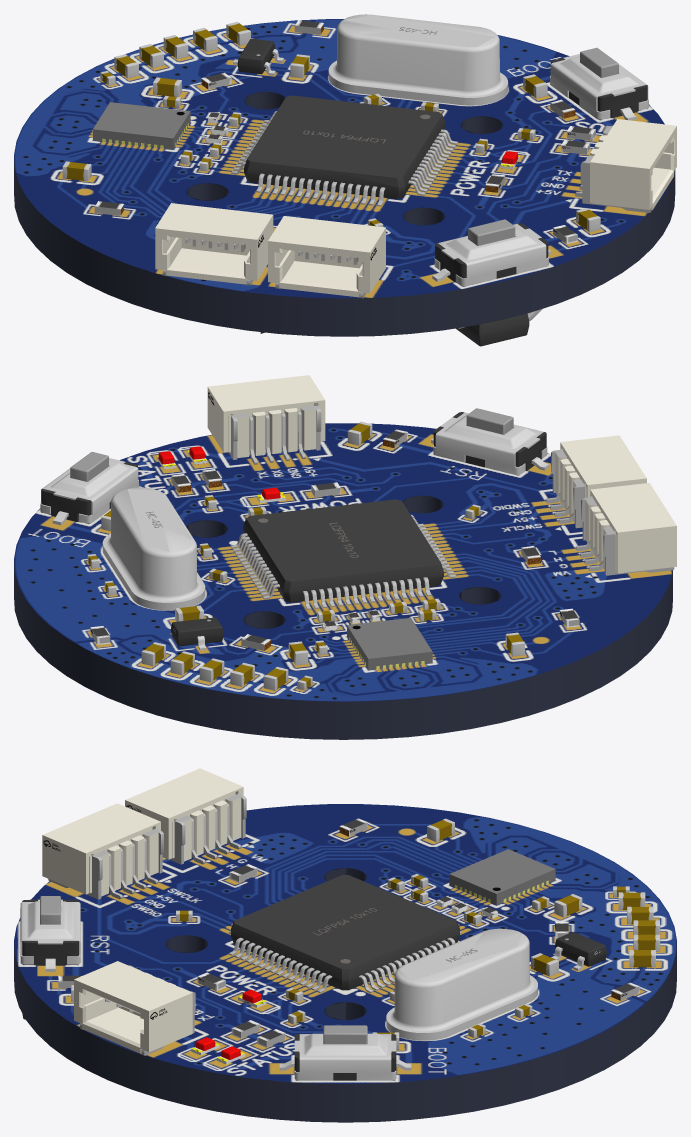
Rendered from pcb.glb.
3 views of the same model, one above another, from view 1: azimuth 30°, elevation 25°; view 2: azimuth 150°, elevation 25°; view 3: azimuth 270°, elevation 25° (orthographic).
Parts seen in each view (by area): view 1: PCB_top, PCB_edge, parts_mtl23, parts_mtl15, parts_mtl11, parts_mtl8, parts_mtl10, parts_mtl20, parts_mtl7, parts_mtl14, parts_mtl5, parts_mtl16 (+2 smaller); view 2: PCB_top, PCB_edge, parts_mtl23, parts_mtl15, parts_mtl11, parts_mtl5, parts_mtl8, parts_mtl10, parts_mtl20, parts_mtl14, parts_mtl7, parts_mtl16 (+3 smaller); view 3: PCB_top, PCB_edge, parts_mtl23, parts_mtl15, parts_mtl11, parts_mtl5, parts_mtl20, parts_mtl8, parts_mtl7, parts_mtl14, parts_mtl10, parts_mtl16 (+3 smaller).
Part boxes in pixels (<box>): PCB_top: <box>14,19,670,298</box>; PCB_edge: <box>14,92,675,336</box>; parts_mtl23: <box>155,119,676,297</box>; parts_mtl15: <box>233,14,648,286</box>; parts_mtl11: <box>244,95,529,346</box>; parts_mtl8: <box>62,21,600,232</box>; parts_mtl10: <box>231,111,542,328</box>; parts_mtl20: <box>93,102,190,149</box>; parts_mtl7: <box>66,23,597,230</box>; parts_mtl14: <box>237,38,647,286</box>; parts_mtl5: <box>94,20,674,298</box>; parts_mtl16: <box>256,27,618,245</box>; PCB_top: <box>14,423,672,701</box>; PCB_edge: <box>14,496,672,739</box>; parts_mtl23: <box>207,375,676,573</box>; parts_mtl15: <box>40,412,549,650</box>; parts_mtl11: <box>243,499,443,602</box>; parts_mtl5: <box>90,405,674,650</box>; parts_mtl8: <box>87,421,524,690</box>; parts_mtl10: <box>230,514,456,609</box>; parts_mtl20: <box>263,499,432,670</box>; parts_mtl14: <box>41,412,546,646</box>; parts_mtl7: <box>88,423,523,688</box>; parts_mtl16: <box>70,408,513,621</box>; PCB_top: <box>14,804,676,1084</box>; PCB_edge: <box>14,867,676,1122</box>; parts_mtl23: <box>42,768,243,1053</box>; parts_mtl15: <box>20,899,601,1080</box>; parts_mtl11: <box>22,875,459,1019</box>; parts_mtl5: <box>48,793,639,1055</box>; parts_mtl20: <box>202,849,555,1060</box>; parts_mtl8: <box>71,818,660,1049</box>; parts_mtl7: <box>179,820,655,1036</box>; parts_mtl14: <box>22,899,606,1080</box>; parts_mtl10: <box>229,931,461,992</box>; parts_mtl16: <box>40,896,568,1044</box>.
Bounding box in the file's own units: 0.0397 × 0.00783 × 0.0397.
Materials: 30 (2 with a texture image).
